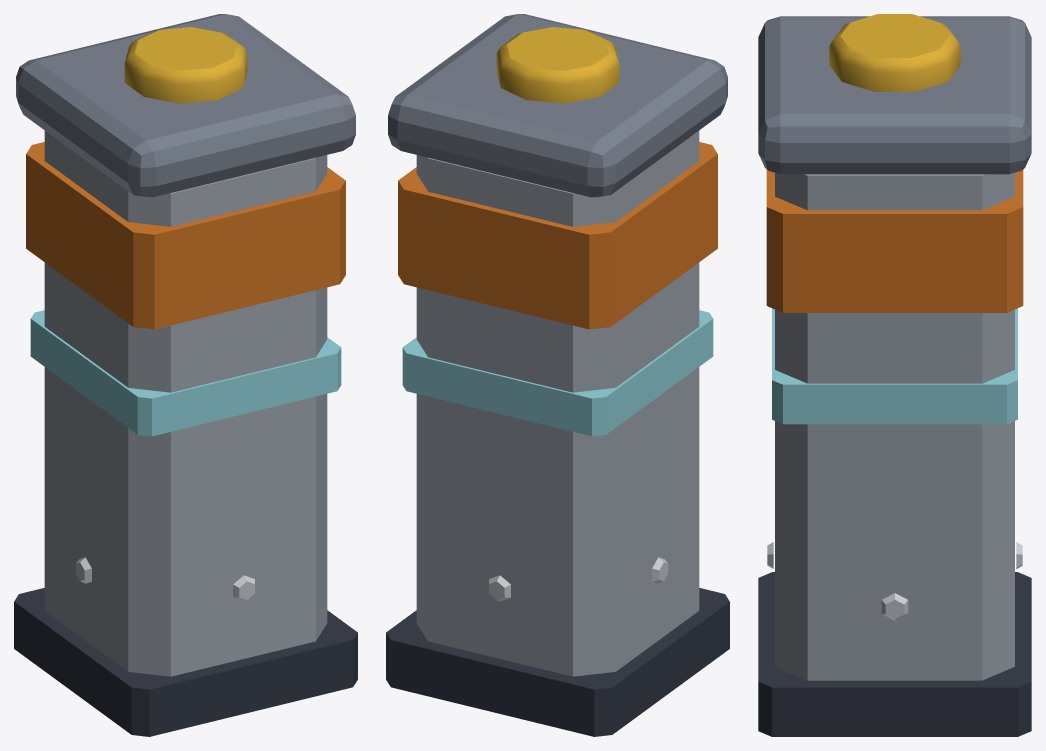
File: space-post.glb
3 views of the same model, side by side, from view 1: azimuth 30°, elevation 25°; view 2: azimuth 150°, elevation 25°; view 3: azimuth 270°, elevation 25° (orthographic). The views are drawn at different scales.
Visible parts, largest first — view 1: space-post; view 2: space-post; view 3: space-post.
Part boxes in pixels (left/top/right/bottom): space-post: left=14, top=14, right=357, bottom=736; space-post: left=386, top=14, right=729, bottom=736; space-post: left=758, top=14, right=1031, bottom=736.
Bounding box in the file's own units: 0.5 × 1.3 × 0.5.
